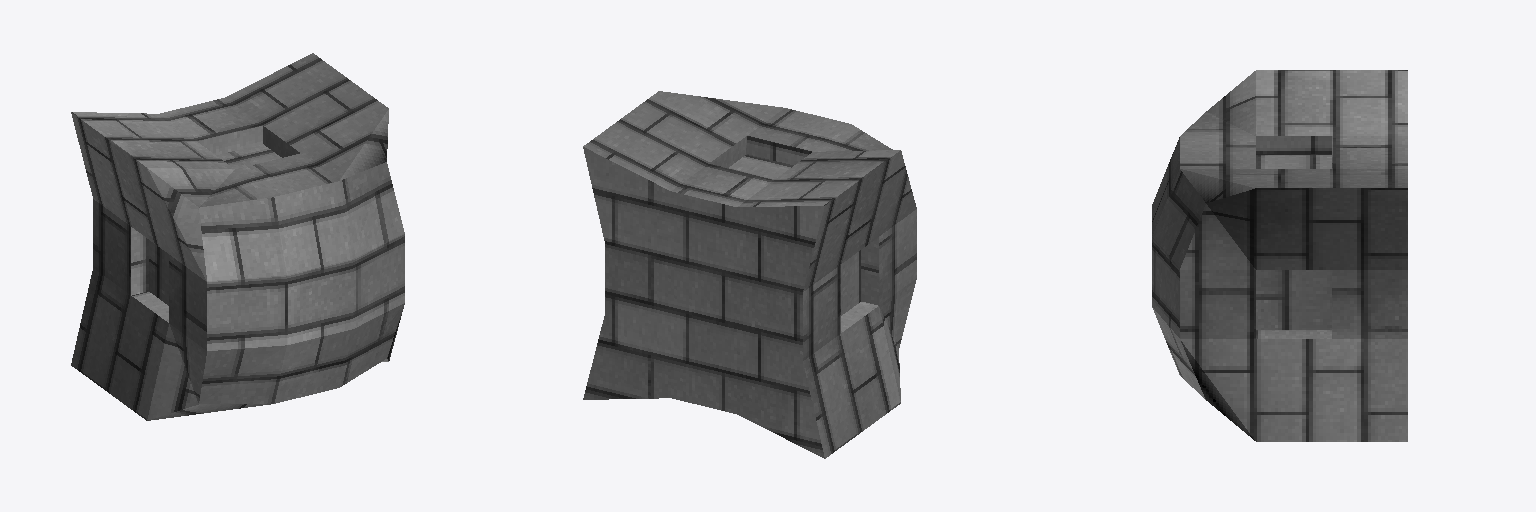
3 views of the same model, side by side, from view 1: azimuth 30°, elevation 25°; view 2: azimuth 150°, elevation 25°; view 3: azimuth 270°, elevation 25° (orthographic).
Parts seen in each view (by area): view 1: Box001; view 2: Box001; view 3: Box001.
Boxes of the visible parts, x1,y1,x2,y2 form: Box001: [71, 53, 404, 420]; Box001: [583, 91, 916, 458]; Box001: [1152, 70, 1407, 441].
Size of the model in its own units: 64.04 by 64.04 by 58.66.
1 materials, 1 textured.